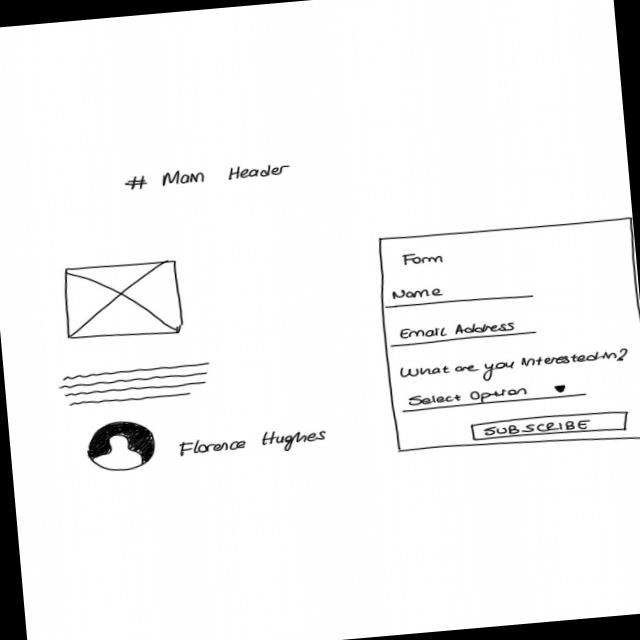button: (471, 408, 631, 445)
container: (374, 214, 640, 464)
image: (61, 258, 186, 345), (85, 418, 160, 475)
input: (384, 277, 537, 313), (390, 315, 539, 348)
label: (398, 346, 632, 391), (175, 426, 331, 464), (125, 160, 294, 192), (400, 249, 448, 269)
select: (401, 379, 589, 414)
textbox: (57, 361, 214, 410)
